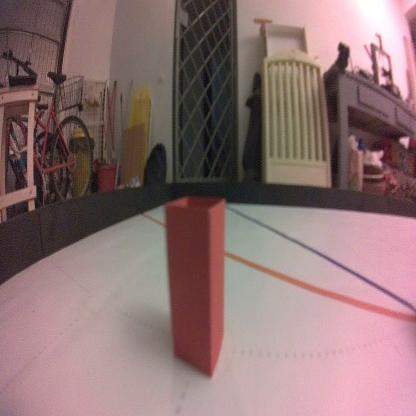red: (164, 193, 224, 379)
